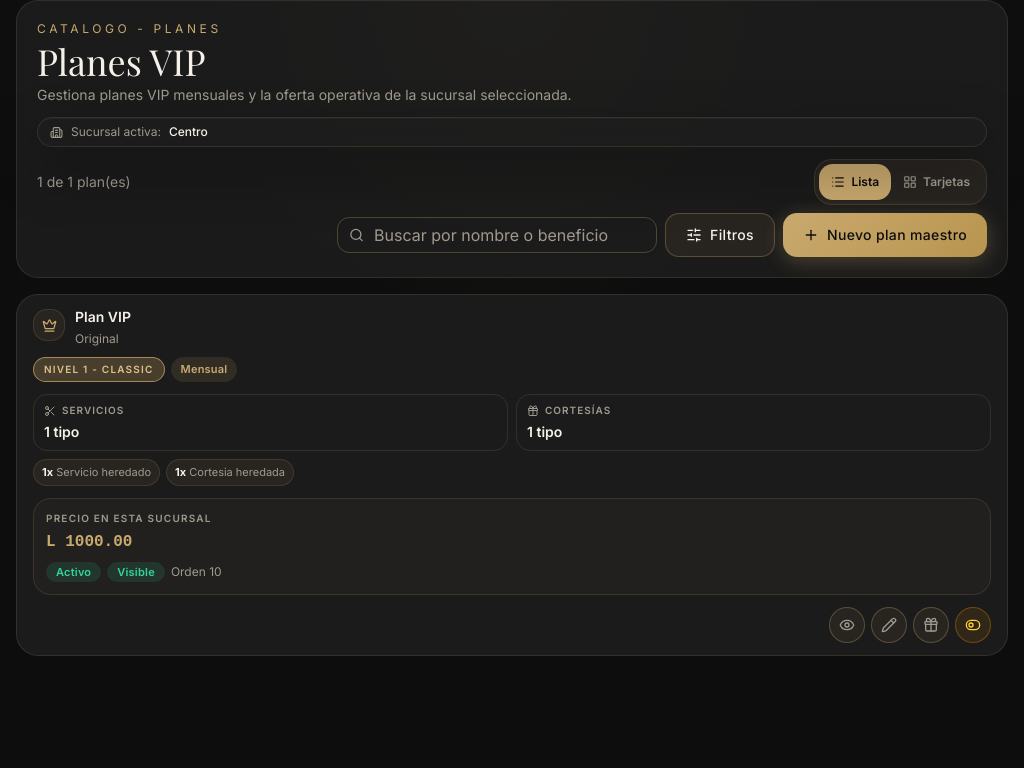
Test case: edicion segura de beneficios globales › cortesia inactiva existente permanece visible con su cantidad
Expected: the heading "Plan VIP" is shown, [75,307,131,327]
Click the button named "Editar maestro": (889, 625) [871,607,907,643]
(page scrolled)
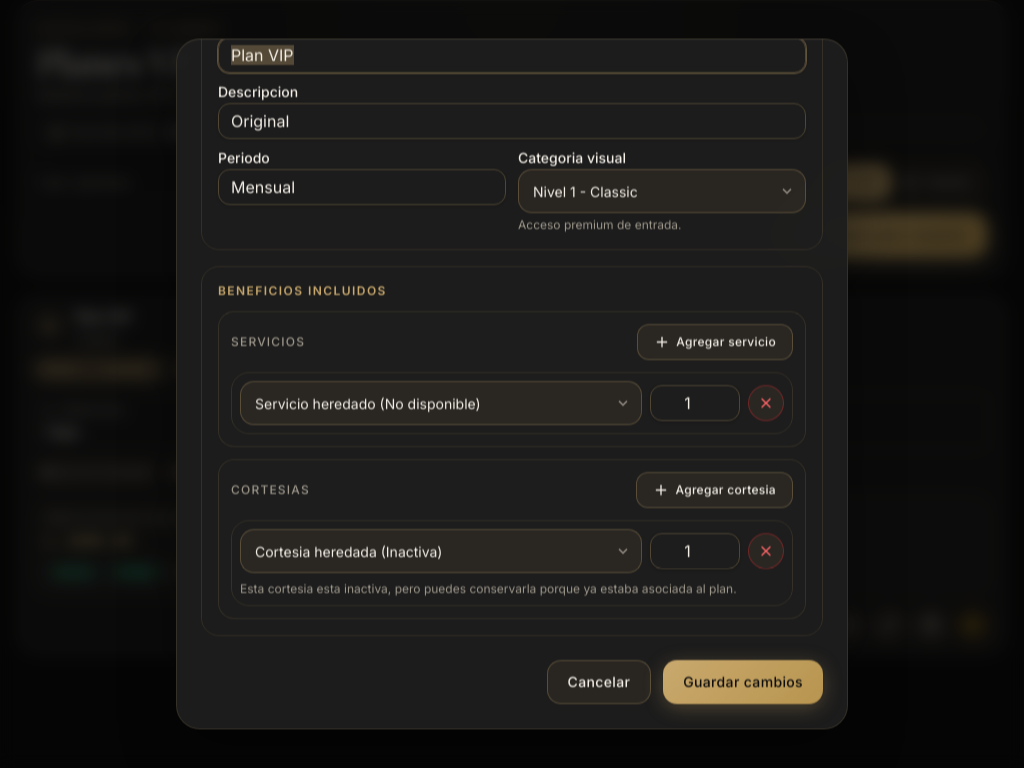
Now the text "puedes conservarla porque ya estaba asociada" is shown, box [240,581,737,596]
Now the 2nd number field holds "1", box [650,533,740,569]
